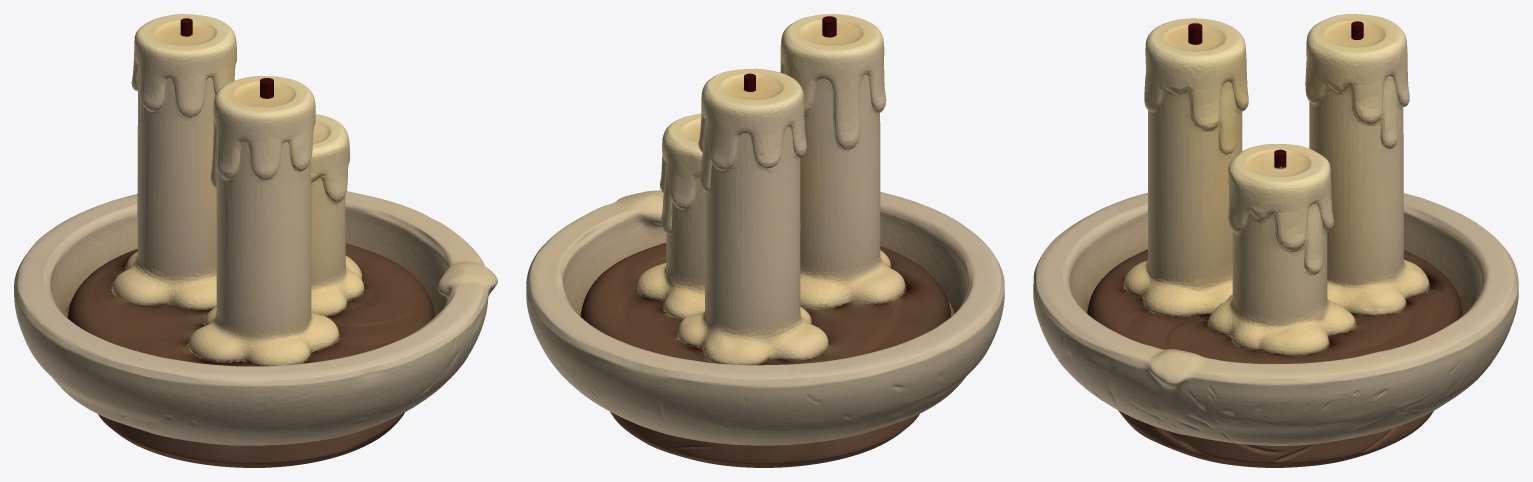
The model's file is candle_10.glb.
The picture shows the model from 3 angles, left to right: view 1: azimuth 30°, elevation 25°; view 2: azimuth 150°, elevation 25°; view 3: azimuth 270°, elevation 25°; orthographic projection.
Visible parts, largest first — view 1: tripo_node_cbbc3e82-2d51-410b-a802-f5b5aa8cad14; view 2: tripo_node_cbbc3e82-2d51-410b-a802-f5b5aa8cad14; view 3: tripo_node_cbbc3e82-2d51-410b-a802-f5b5aa8cad14.
Boxes of the visible parts, x1,y1,x2,y2 form: tripo_node_cbbc3e82-2d51-410b-a802-f5b5aa8cad14: (14,14,497,467); tripo_node_cbbc3e82-2d51-410b-a802-f5b5aa8cad14: (526,14,1004,467); tripo_node_cbbc3e82-2d51-410b-a802-f5b5aa8cad14: (1033,14,1518,467).
Size of the model in its own units: 0.9767 by 0.8197 by 0.9786.
4 materials, 1 textured.
